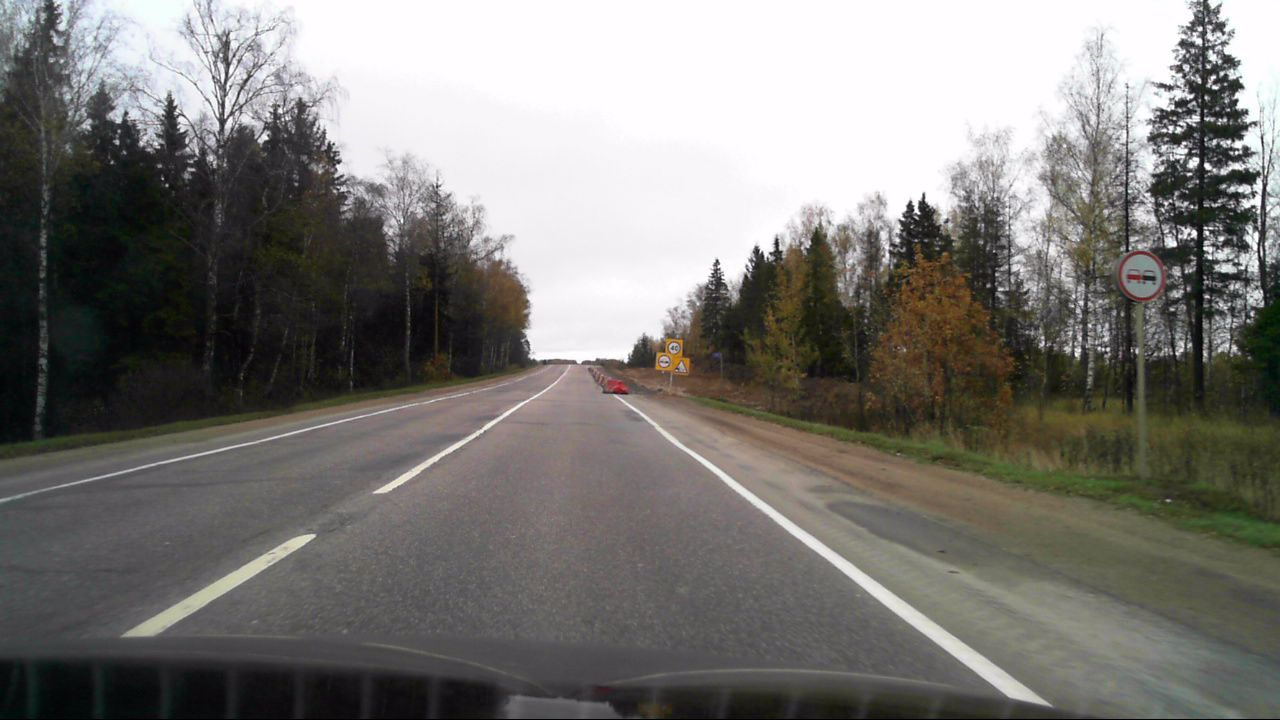speed_warning_40: (666, 338, 683, 355)
